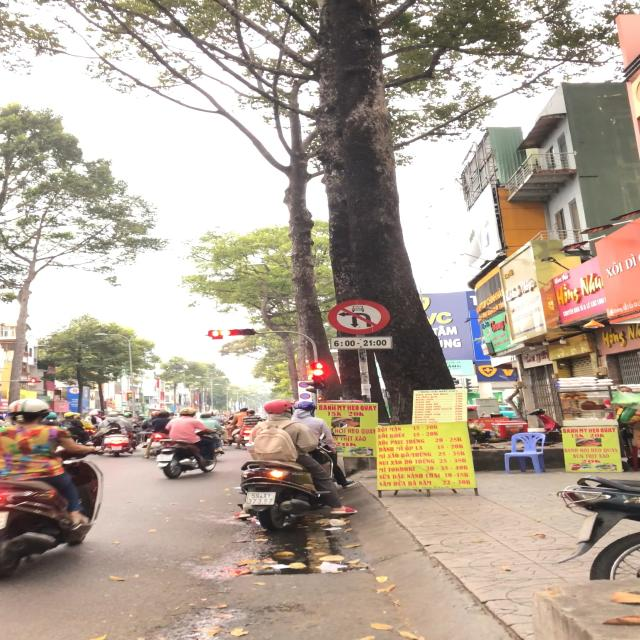Bien bao cam oto re trai va quay dau xe: (327, 299, 392, 336)
